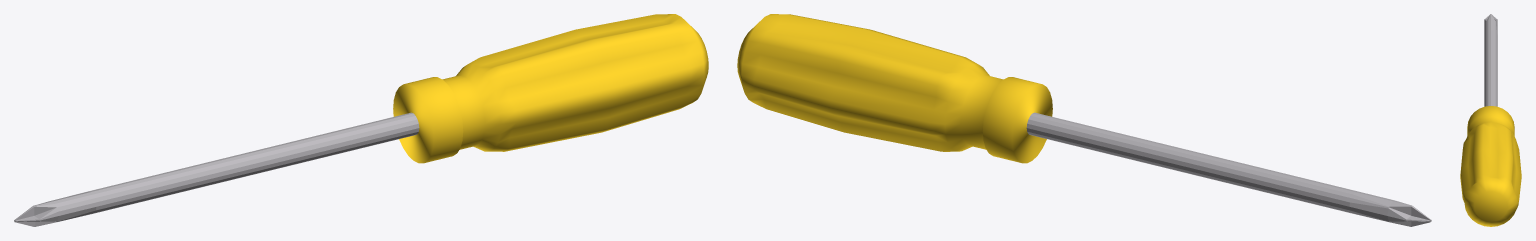
File: Arrow.fbx
The picture shows the model from 3 angles, left to right: view 1: azimuth 30°, elevation 25°; view 2: azimuth 150°, elevation 25°; view 3: azimuth 270°, elevation 25°; orthographic projection. The views are drawn at different scales.
Parts seen in each view (by area): view 1: Cylinder.002, Cylinder, Cylinder.001; view 2: Cylinder.002, Cylinder, Cylinder.001; view 3: Cylinder.002, Cylinder, Cylinder.001.
Part boxes in pixels (x1,y1,x2,y2): Cylinder.002: (393, 14, 708, 163); Cylinder: (89, 112, 419, 213); Cylinder.001: (14, 191, 96, 226); Cylinder.002: (737, 14, 1052, 163); Cylinder: (1026, 112, 1356, 213); Cylinder.001: (1349, 191, 1431, 226); Cylinder.002: (1460, 106, 1521, 226); Cylinder: (1484, 30, 1497, 106); Cylinder.001: (1484, 14, 1497, 34).
Bounding box in the file's own units: 239 × 31.31 × 32.42.
